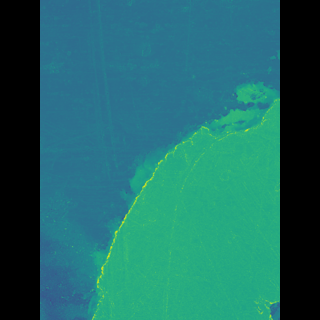Loch: (100, 74, 250, 320)
